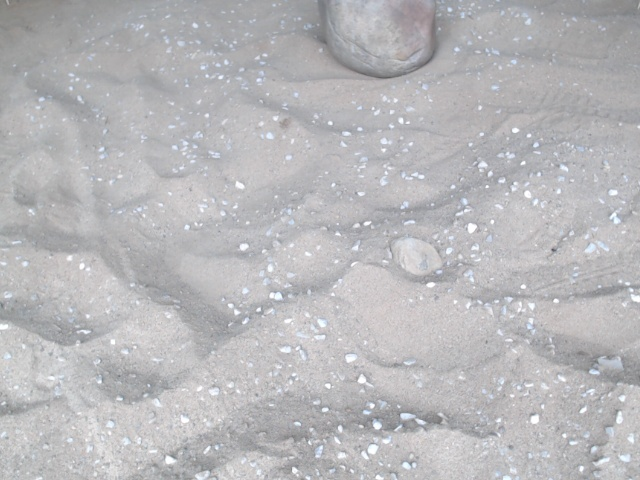rock: (311, 1, 444, 84), (384, 232, 449, 284)
